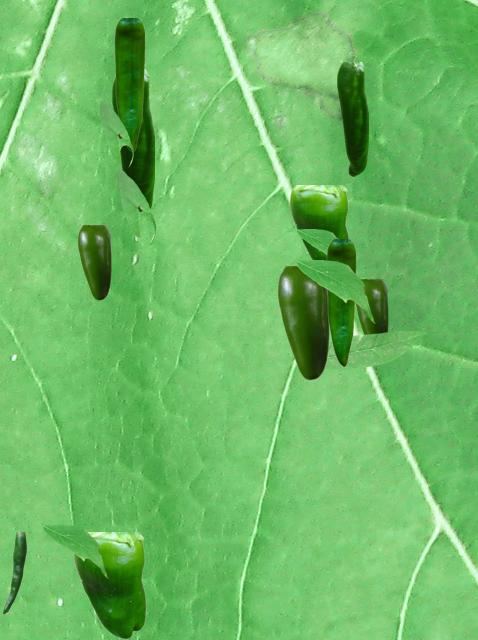green_chili: (73, 532, 145, 638), (112, 69, 153, 209), (278, 266, 328, 379), (289, 185, 348, 259), (114, 18, 144, 150), (326, 239, 355, 365), (337, 62, 367, 175), (78, 225, 110, 299), (2, 532, 25, 613), (356, 279, 387, 333)
